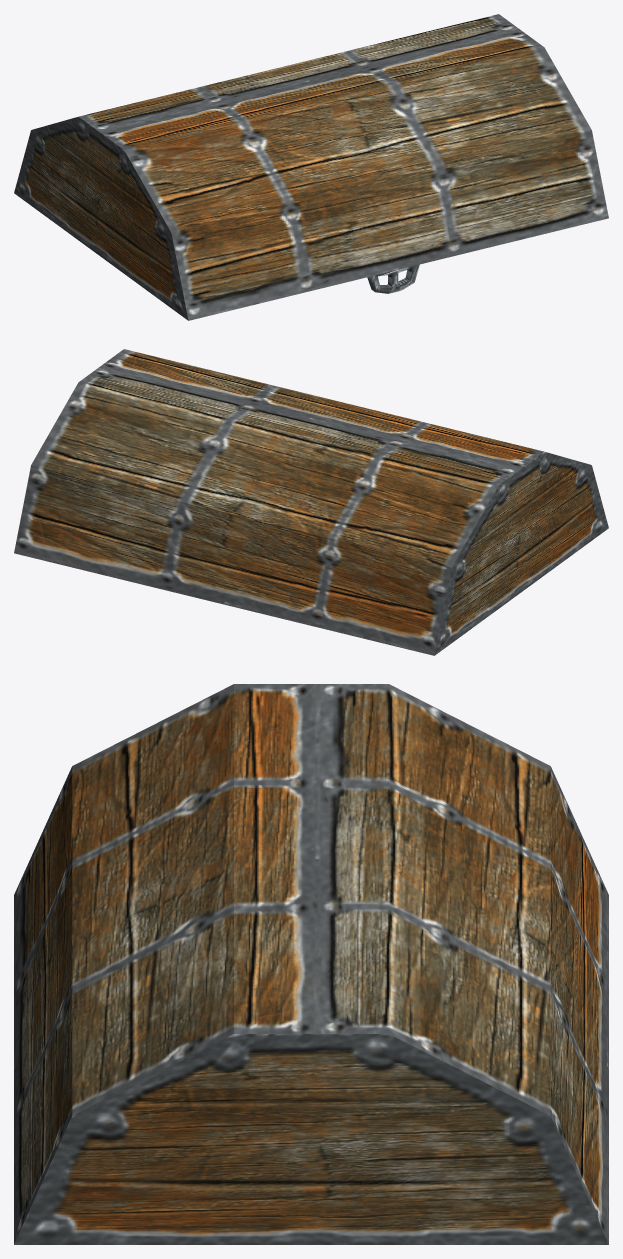
File: chest_anim.obj
3 renders of one model, top to bottom at view 1: azimuth 30°, elevation 25°; view 2: azimuth 150°, elevation 25°; view 3: azimuth 270°, elevation 25°, orthographic. The views are drawn at different scales.
Visible parts, largest first — view 1: lid; view 2: lid; view 3: lid.
Part boxes in pixels (x1,y1,x2,y2): lid: (14,14,608,320); lid: (14,349,608,655); lid: (14,684,608,1244).
Size of the model in its own units: 6.4 by 2.17 by 4.6.
4 materials, 4 textured.
